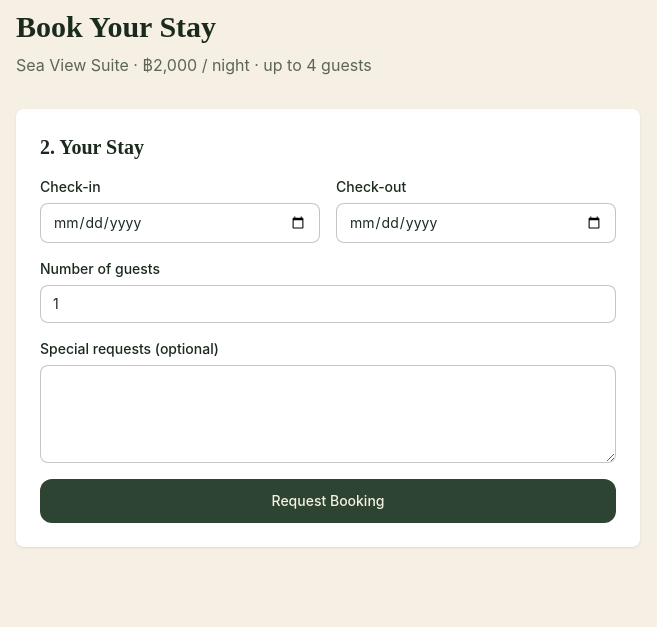
BookingNewPage › shows "please try again" and STOPS after a second consecutive 409 -- never a third attempt
This screenshot has width=657, height=627.
In the date field labelled "Check-in": point(180, 223) [40, 203, 320, 243], type "2026-08-15"
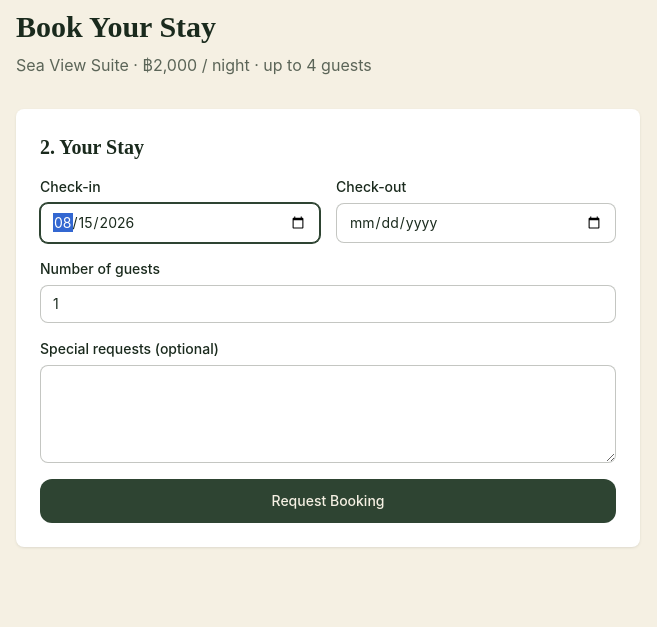
In the date field labelled "Check-out": point(476, 223) [336, 203, 616, 243], type "2026-08-17"
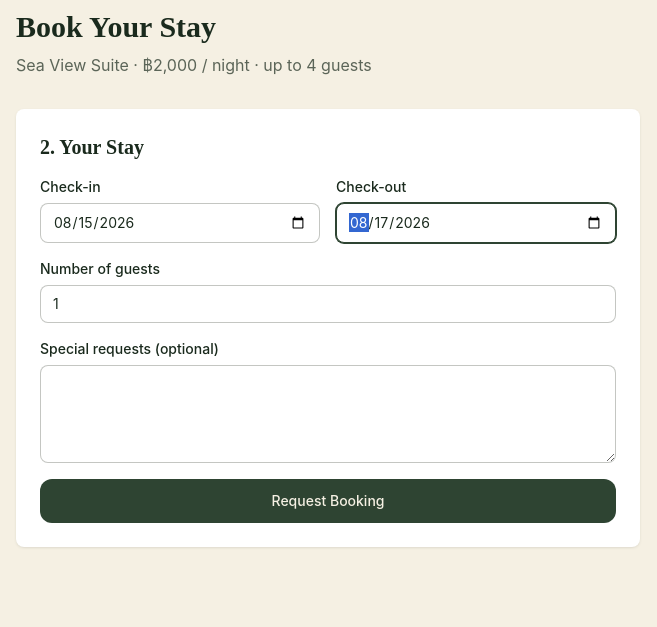
Click the button "Request Booking": point(328, 501) [40, 479, 616, 523]
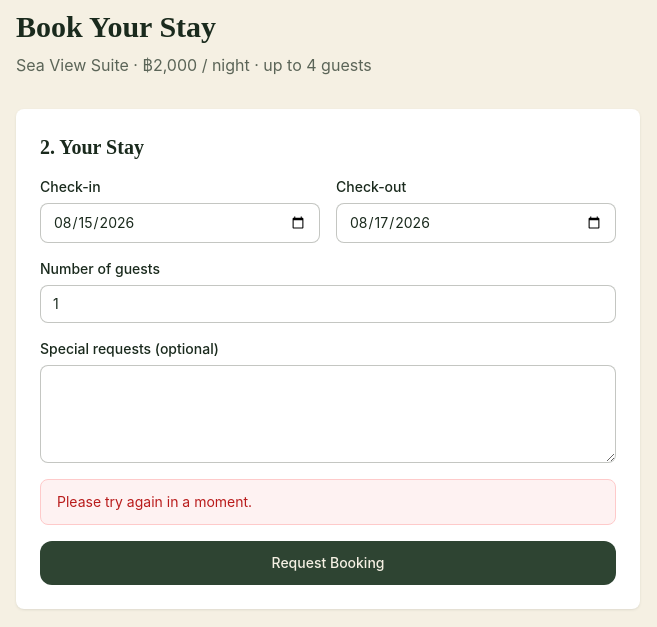
Check: the text "Please try again in a moment." is shown, box [40, 479, 616, 525]
